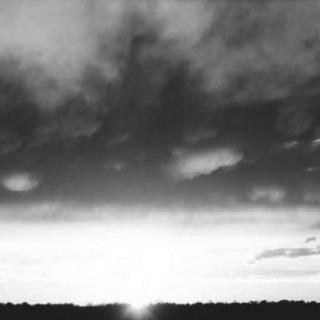Altostratus: (0, 0, 320, 256)
